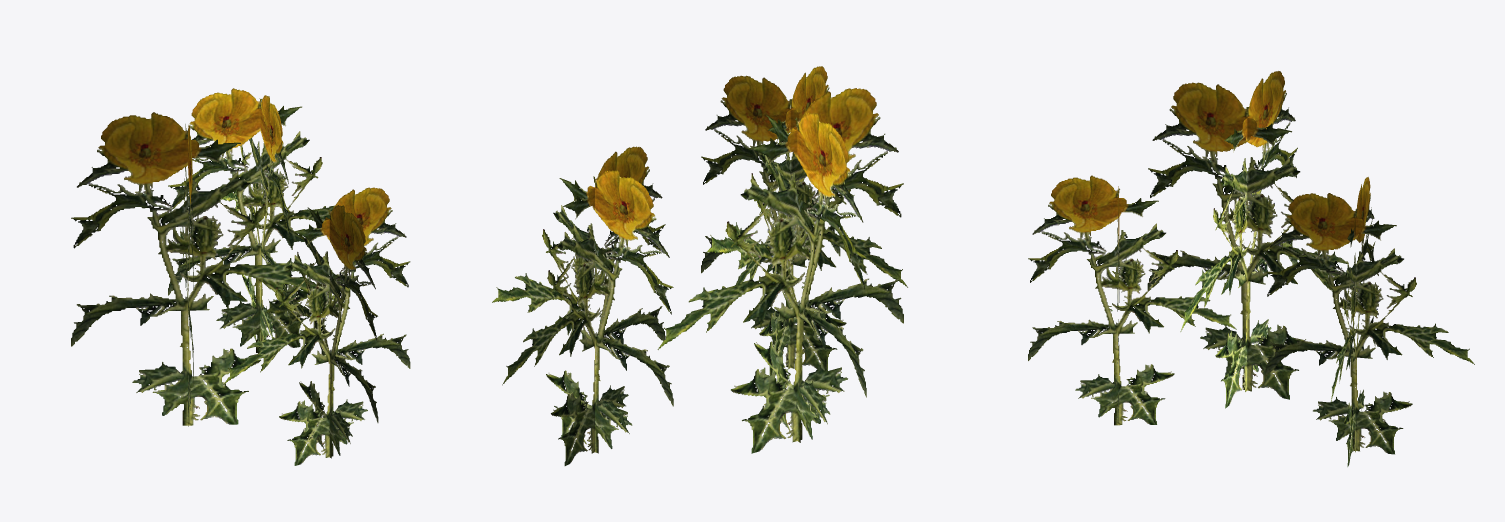
The model's file is plants_weed_1.glb.
The picture shows the model from 3 angles, left to right: view 1: azimuth 30°, elevation 25°; view 2: azimuth 150°, elevation 25°; view 3: azimuth 270°, elevation 25°; orthographic projection. The views are drawn at different scales.
Visible parts, largest first — view 1: weed_1; view 2: weed_1; view 3: weed_1.
Part boxes in pixels (<box>): weed_1: <box>71,88,410,465</box>; weed_1: <box>492,66,907,465</box>; weed_1: <box>1028,71,1474,466</box>.
Bounding box in the file's own units: 6.26 × 5.1 × 7.45.
Materials: 1 (1 with a texture image).
